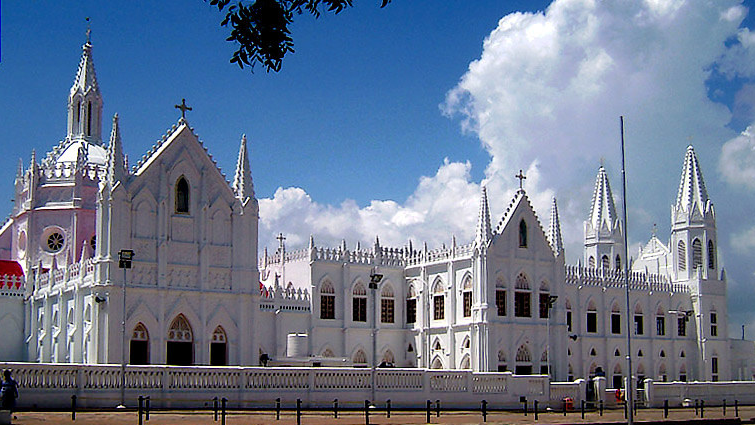Church: (27, 21, 732, 404)
